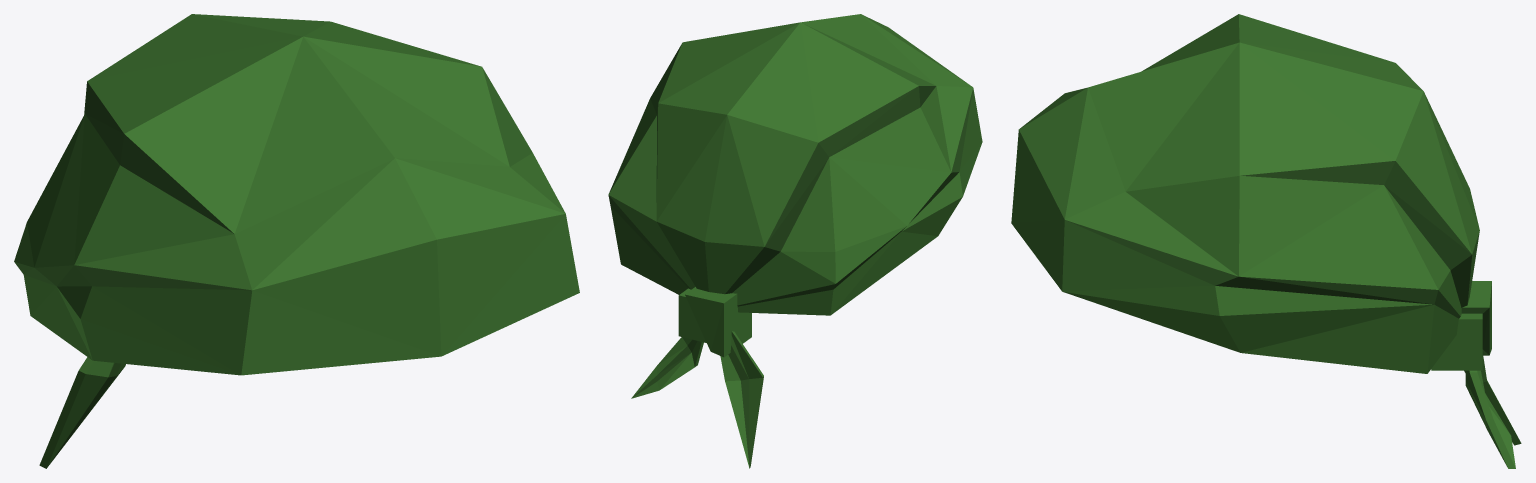
File: Bandana.dae
3 views of the same model, side by side, from view 1: azimuth 30°, elevation 25°; view 2: azimuth 150°, elevation 25°; view 3: azimuth 270°, elevation 25° (orthographic). The views are drawn at different scales.
Parts seen in each view (by area): view 1: Bandana; view 2: Bandana; view 3: Bandana.
Boxes of the visible parts, box(x1,y1,x2,y2) form: Bandana: box(14, 14, 579, 468); Bandana: box(608, 14, 982, 468); Bandana: box(1011, 14, 1521, 468).
Size of the model in its own units: 1.74 by 1.98 by 1.88.
